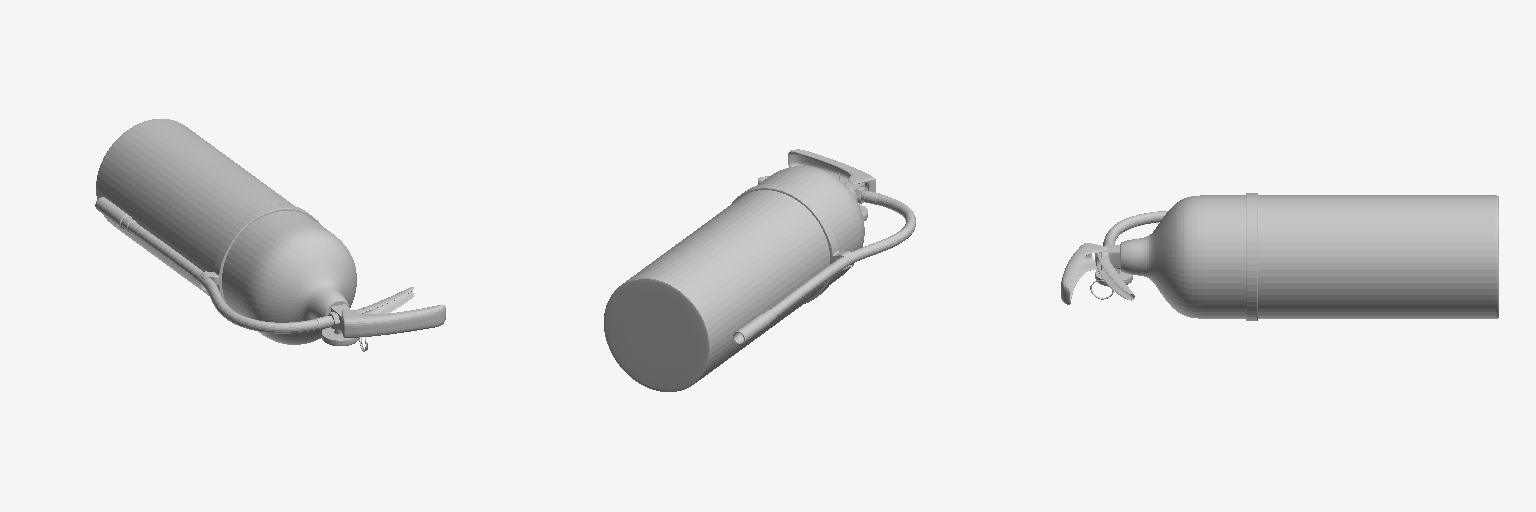
File: fire.obj
3 views of the same model, side by side, from view 1: azimuth 30°, elevation 25°; view 2: azimuth 150°, elevation 25°; view 3: azimuth 270°, elevation 25° (orthographic).
Parts seen in each view (by area): view 1: ogneushitl_n; view 2: ogneushitl_n; view 3: ogneushitl_n.
Part boxes in pixels (x1,y1,x2,y2): ogneushitl_n: (95, 119, 445, 351); ogneushitl_n: (604, 149, 915, 391); ogneushitl_n: (1061, 193, 1498, 320).
Bounding box in the file's own units: 25.39 × 16.54 × 56.69.